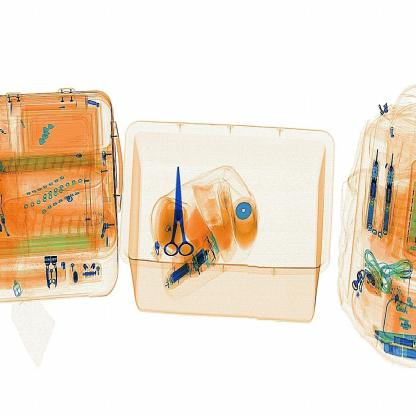gun: (160, 152, 197, 264)
